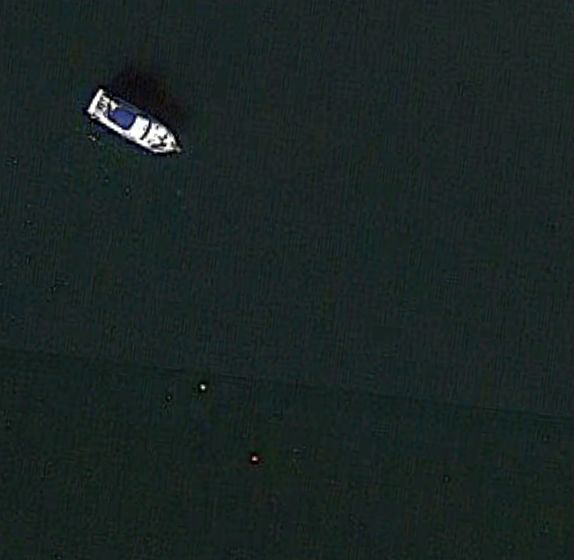boat: (86, 87, 180, 157)
